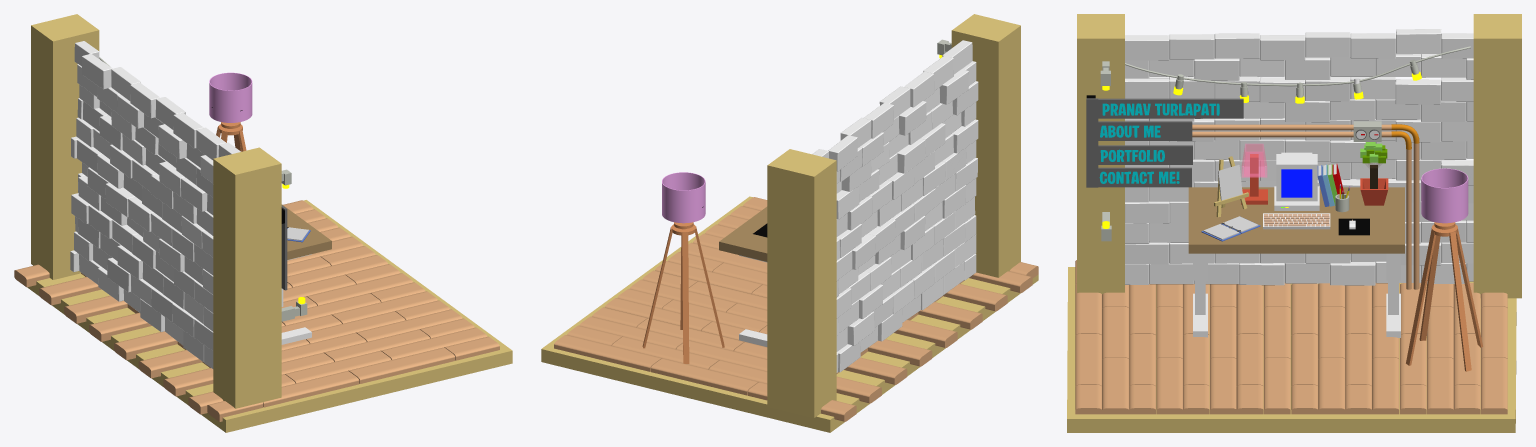
File: desk.glb
3 views of the same model, side by side, from view 1: azimuth 30°, elevation 25°; view 2: azimuth 150°, elevation 25°; view 3: azimuth 270°, elevation 25° (orthographic). The views are drawn at different scales.
Parts seen in each view (by area): view 1: Cube001, Cube, Cube004, Cube005, Cylinder053, Cube122, Cube006, Cube007, Cube096, Cube020, Cube093, Cube015 (+53 smaller); view 2: Cube, Cube001, Cube004, Cylinder051, Cube128, Cube127, Cylinder053, Cylinder001, Cube115, Cube133, Cube108, Cube093 (+51 smaller); view 3: Cube, Cube004, Cube001, Cylinder001, Cylinder026, Cylinder051, Text005, Cylinder034, Cylinder053, Cube009_2, Text004_1, Text001_1 (+130 smaller).
Part boxes in pixels (x1=…): Cube001: x1=213, y1=147, x2=281, y2=408; Cube: x1=31, y1=14, x2=99, y2=279; Cube004: x1=27, y1=200, x2=512, y2=432; Cube005: x1=348, y1=347, x2=455, y2=383; Cylinder053: x1=209, y1=72, x2=252, y2=122; Cube122: x1=263, y1=371, x2=359, y2=407; Cube006: x1=380, y1=327, x2=487, y2=359; Cube007: x1=356, y1=309, x2=462, y2=341; Cube096: x1=285, y1=351, x2=391, y2=383; Cube020: x1=331, y1=291, x2=437, y2=323; Cube093: x1=306, y1=273, x2=412, y2=305; Cube015: x1=323, y1=329, x2=430, y2=361; Cube: x1=767, y1=149, x2=836, y2=417; Cube001: x1=951, y1=14, x2=1020, y2=277; Cube004: x1=541, y1=196, x2=1038, y2=432; Cylinder051: x1=642, y1=222, x2=724, y2=363; Cube128: x1=651, y1=358, x2=758, y2=395; Cube127: x1=554, y1=335, x2=661, y2=371; Cylinder053: x1=662, y1=172, x2=705, y2=223; Cylinder001: x1=719, y1=206, x2=767, y2=261; Cube115: x1=579, y1=316, x2=682, y2=349; Cube133: x1=612, y1=336, x2=719, y2=369; Cube108: x1=604, y1=298, x2=712, y2=331; Cube093: x1=655, y1=261, x2=762, y2=294; Cube: x1=1473, y1=14, x2=1521, y2=298; Cube004: x1=1067, y1=267, x2=1516, y2=432; Cube001: x1=1077, y1=14, x2=1124, y2=294; Cylinder001: x1=1188, y1=187, x2=1404, y2=253; Cylinder026: x1=1192, y1=124, x2=1419, y2=289; Cylinder051: x1=1406, y1=222, x2=1482, y2=371; Text005: x1=1096, y1=98, x2=1243, y2=118; Cylinder034: x1=1193, y1=253, x2=1400, y2=337; Cylinder053: x1=1421, y1=168, x2=1468, y2=223; Cube009_2: x1=1274, y1=152, x2=1319, y2=210; Text004_1: x1=1094, y1=167, x2=1191, y2=187; Text001_1: x1=1095, y1=121, x2=1192, y2=140.
Size of the model in its own units: 3.44 by 2.8 by 4.21.
